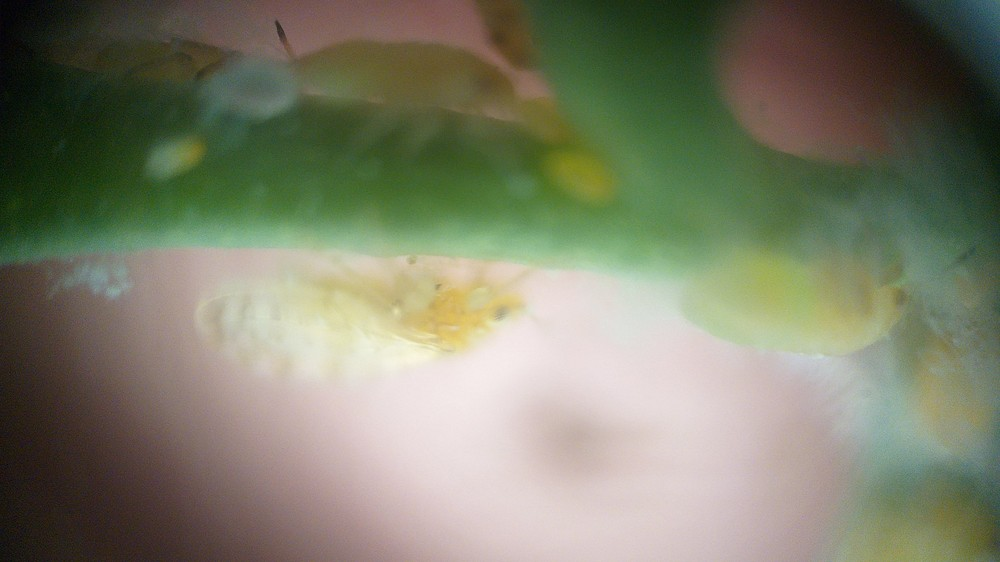Mosca Blanca: (197, 219, 581, 405)
